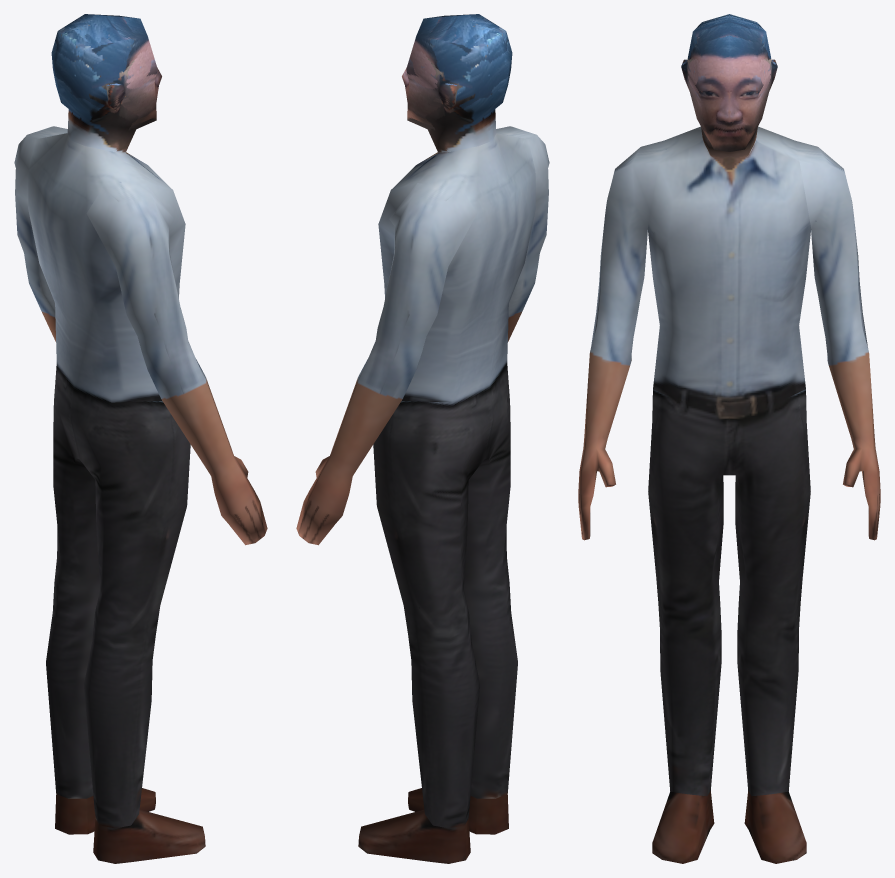
The model's file is old_prof3.fbx.
The picture shows the model from 3 angles, left to right: view 1: azimuth 30°, elevation 25°; view 2: azimuth 150°, elevation 25°; view 3: azimuth 270°, elevation 25°; orthographic projection.
Visible parts, largest first — view 1: phil; view 2: phil; view 3: phil.
Boxes of the visible parts, <box> form: phil: <box>14,14,267,863</box>; phil: <box>296,14,549,863</box>; phil: <box>578,14,880,863</box>.
Size of the model in its own units: 85.61 by 455 by 155.
